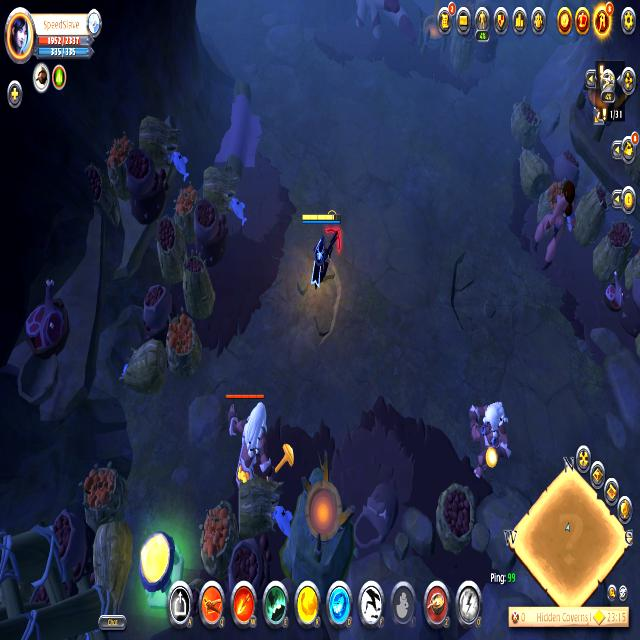fiber: (137, 524, 186, 607)
ore: (224, 386, 290, 492), (530, 176, 577, 276), (465, 391, 513, 477)
red: (299, 206, 344, 298)
